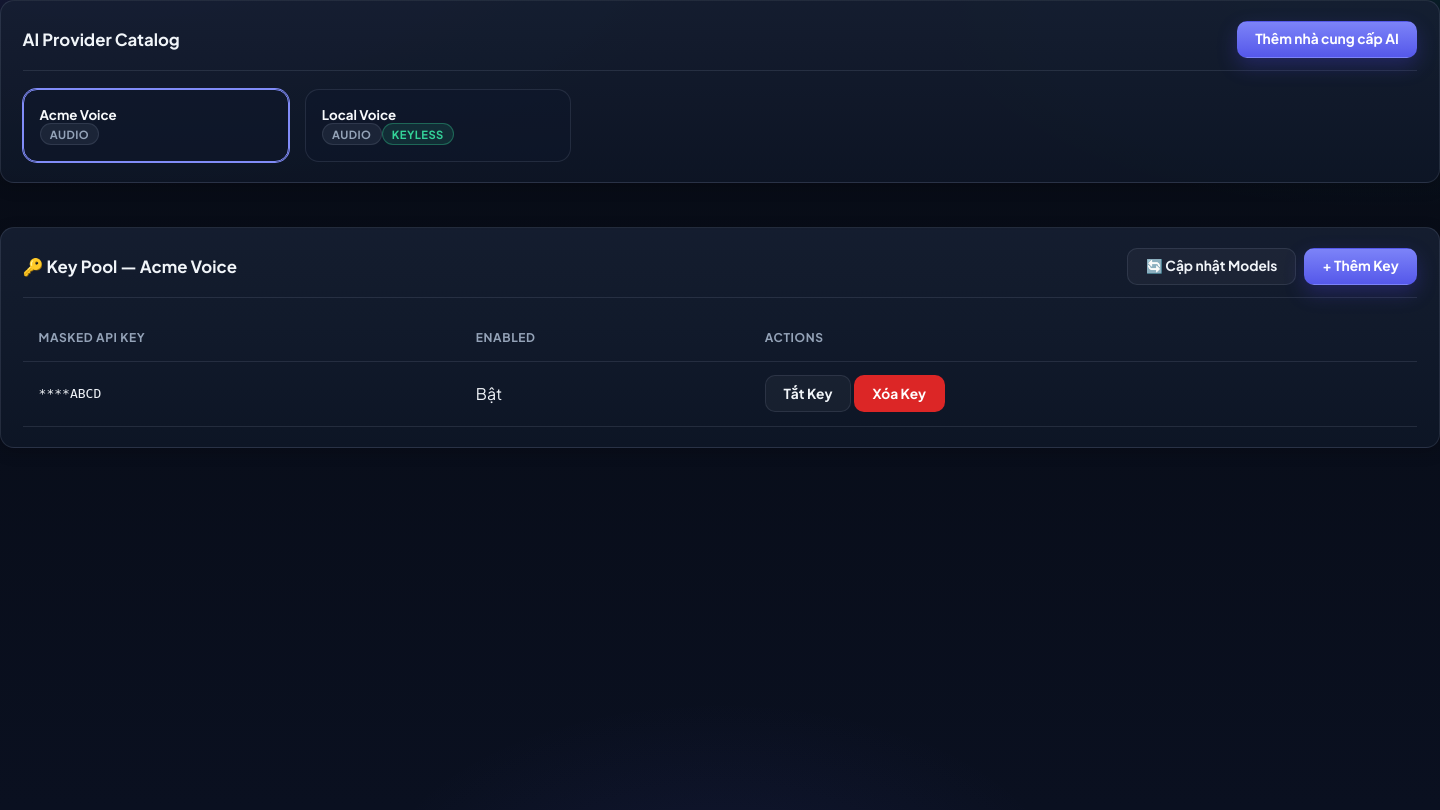
Test case: adds a provider profile, reloads the catalog, and selects the new provider
The width and height of the screenshot is (1440, 810).
Expected: the button "Acme Voice audio" is shown, [23,89,289,162]
Click the button "Thêm nhà cung cấp AI".
click(1327, 40)  # box [1237,21,1417,58]
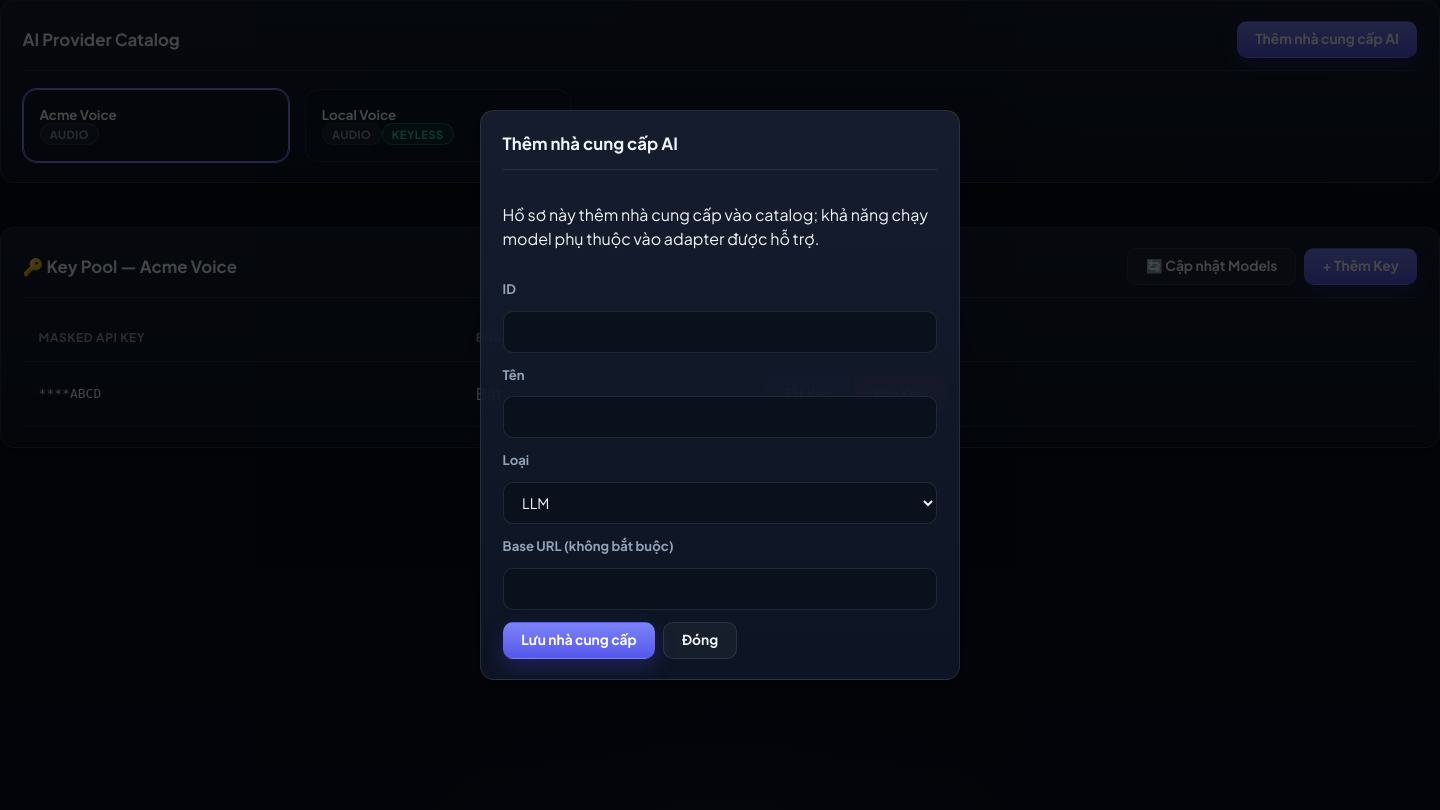
Type "custom_llm" into the field labelled "ID".
click(720, 332); type("custom_llm")  # box [503,311,937,353]
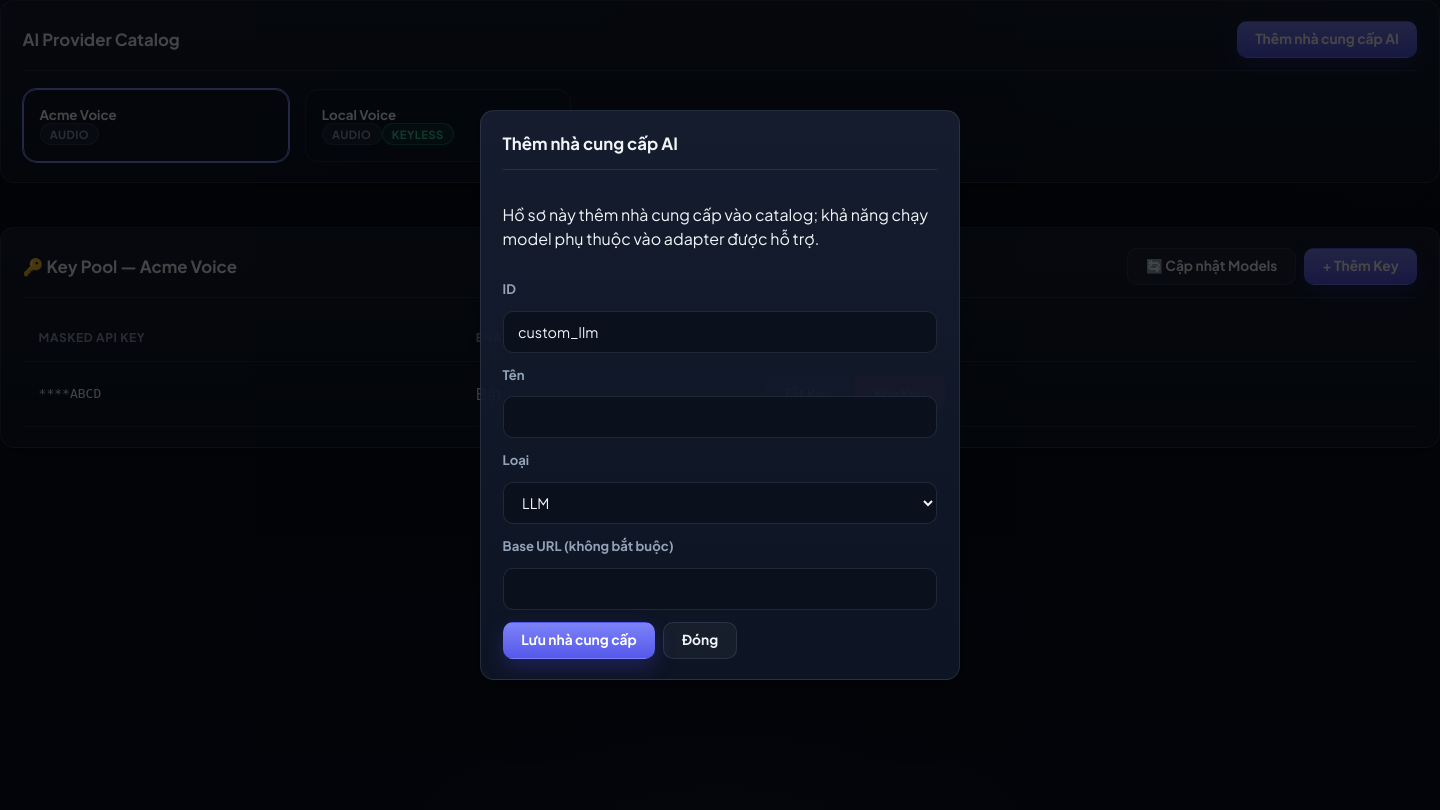
Type "Custom LLM" into the field labelled "Tên".
click(720, 418); type("Custom LLM")  # box [503,396,937,438]
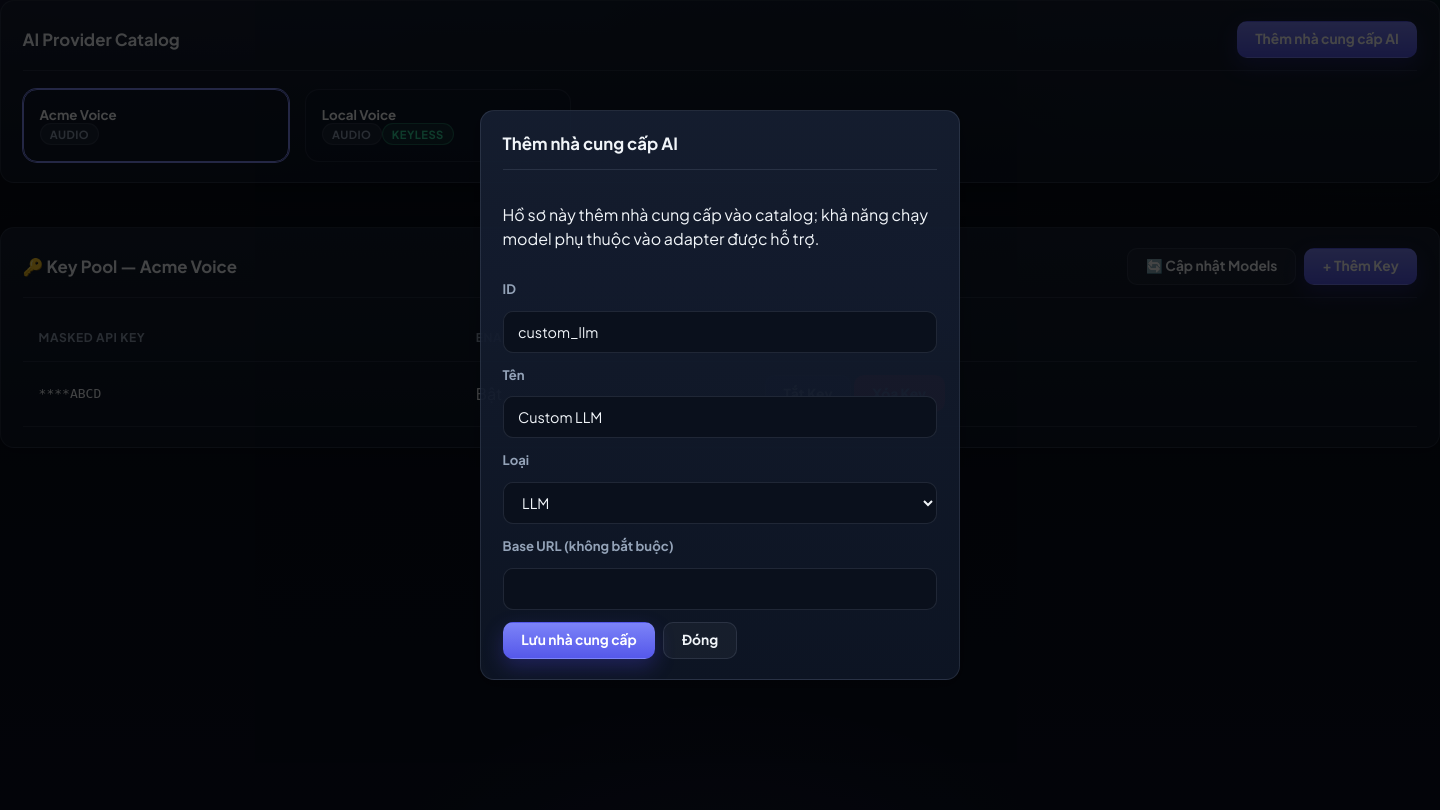
Select "LLM" in the dropdown labelled "Loại" at (720, 503), box [503,482,937,524]
Type "https://example.com/v1" into the field labelled "Base URL (không bắt buộc)".
click(720, 589); type("https://example.com/v1")  # box [503,568,937,610]
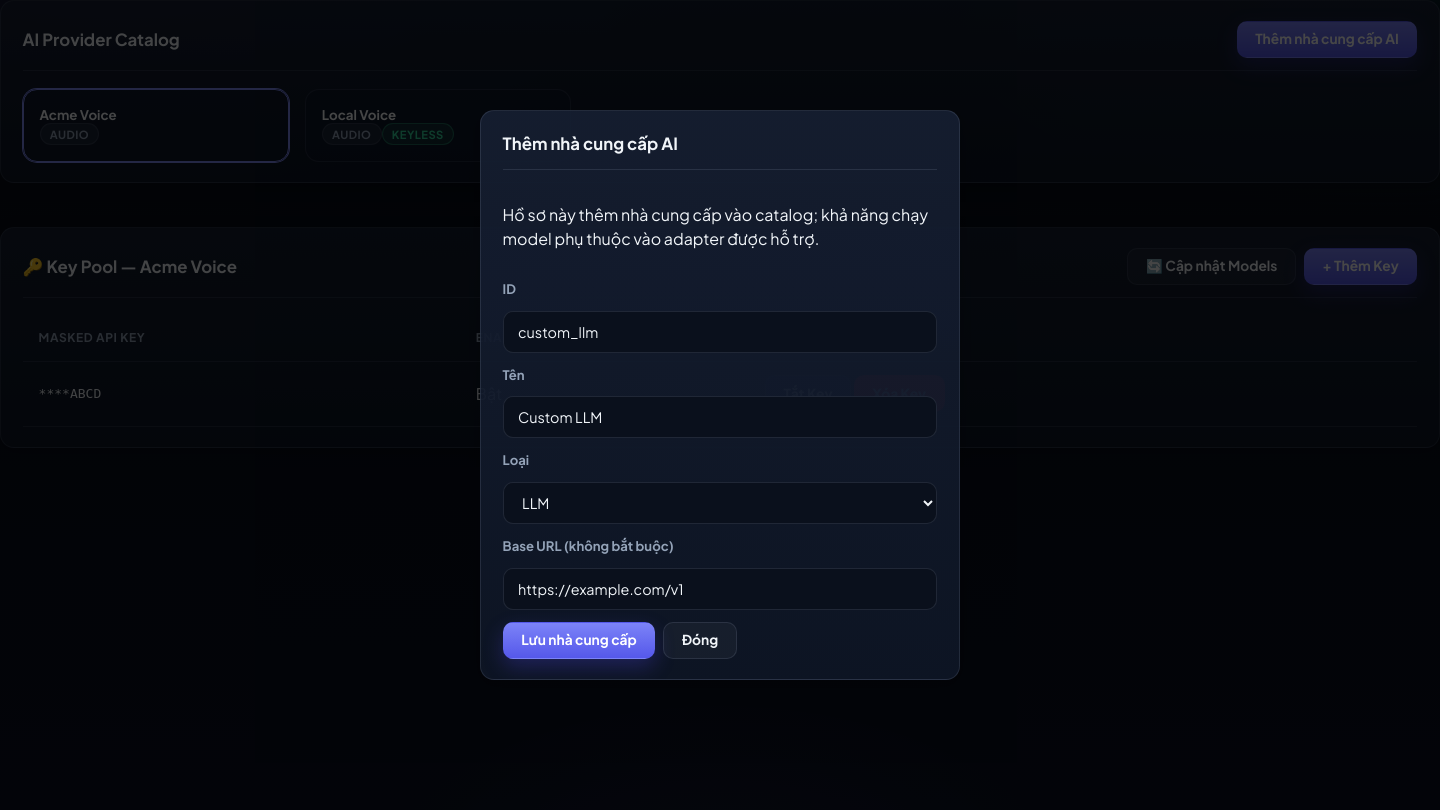
Click the button "Lưu nhà cung cấp".
click(579, 640)  # box [503,622,655,659]
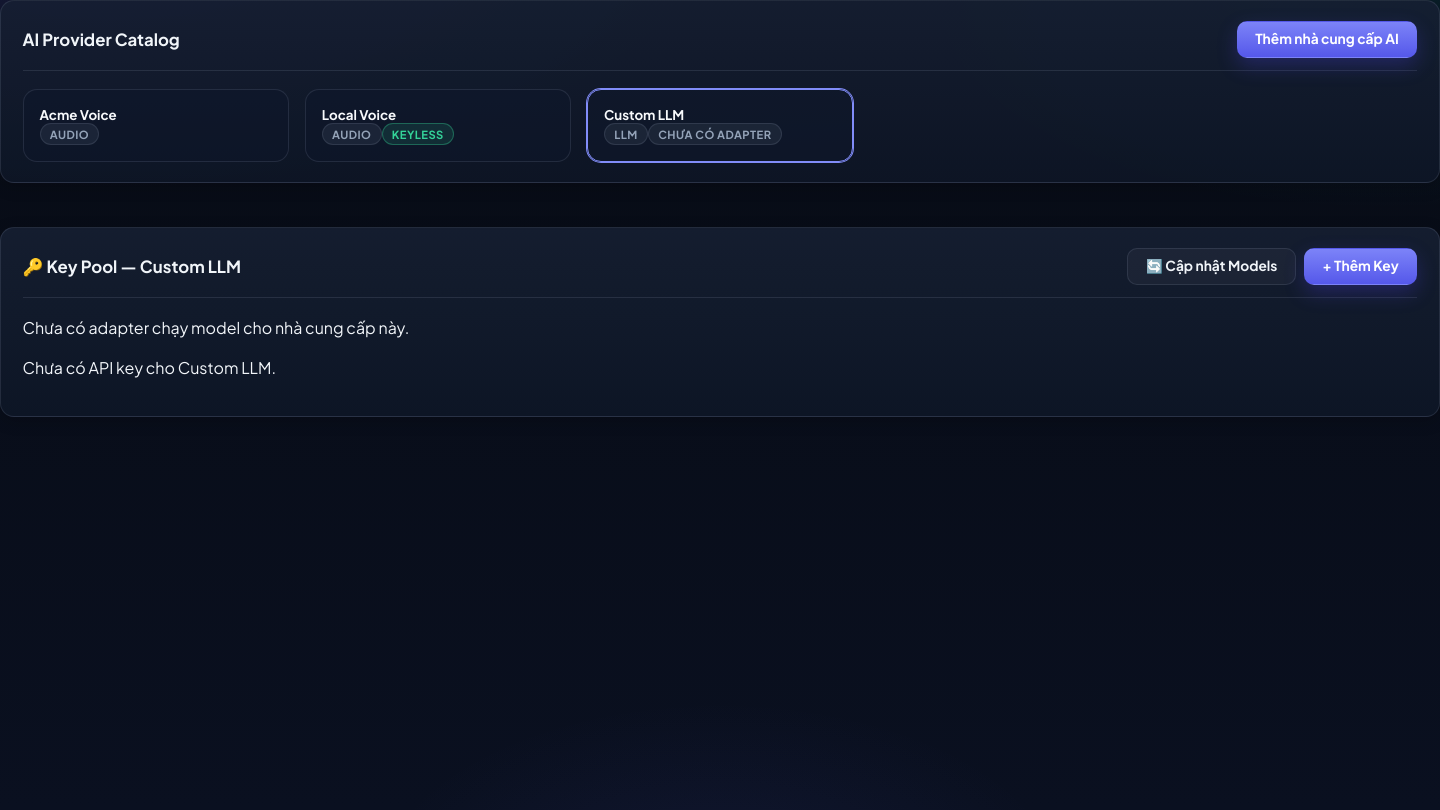
Now the button "Custom LLM llm Chưa có adapter" is shown, box [587,89,853,162]
Now the heading "🔑 Key Pool — Custom LLM" is shown, box [23,254,241,279]
Now the text "Chưa có adapter chạy model cho nhà cung cấp này." is shown, box [23,317,409,338]
